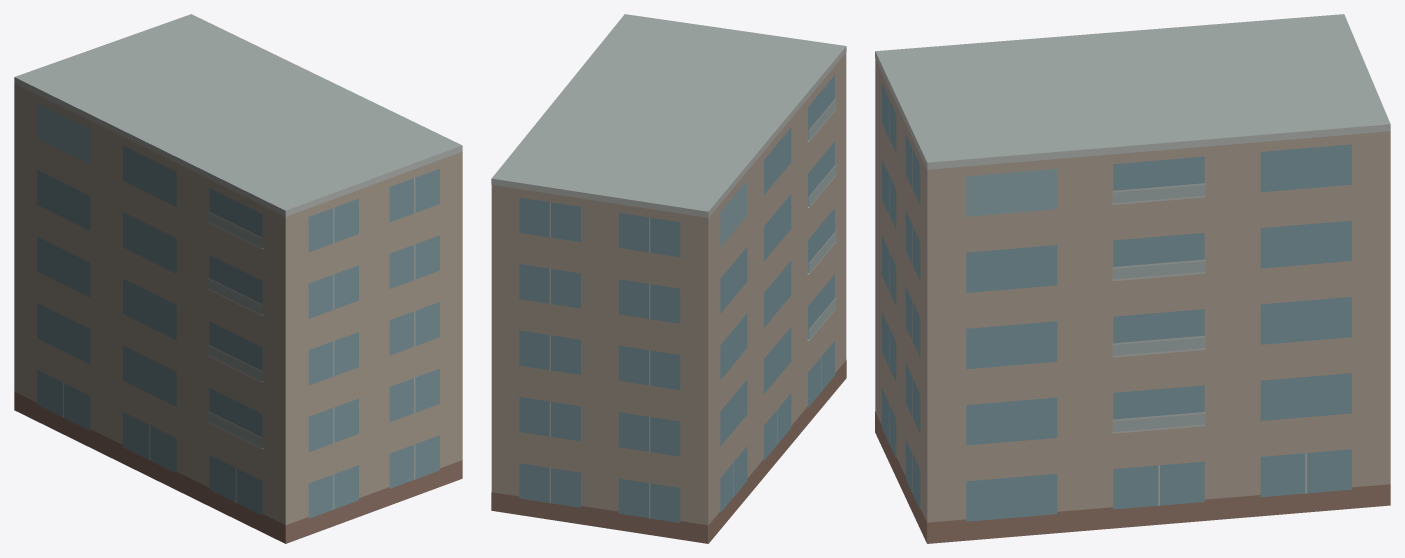
Rendered from survey-upis-32894498.glb.
3 renders of one model, left to right at view 1: azimuth 30°, elevation 25°; view 2: azimuth 150°, elevation 25°; view 3: azimuth 270°, elevation 25°, orthographic. The views are drawn at different scales.
Visible parts, largest first — view 1: survey-upis-32894498.tmp; view 2: survey-upis-32894498.tmp; view 3: survey-upis-32894498.tmp.
Boxes of the visible parts, x1,y1,x2,y2 form: survey-upis-32894498.tmp: (14, 14, 462, 543); survey-upis-32894498.tmp: (491, 14, 846, 543); survey-upis-32894498.tmp: (875, 14, 1390, 543).
Size of the model in its own units: 11.05 by 13.2 by 16.19.
